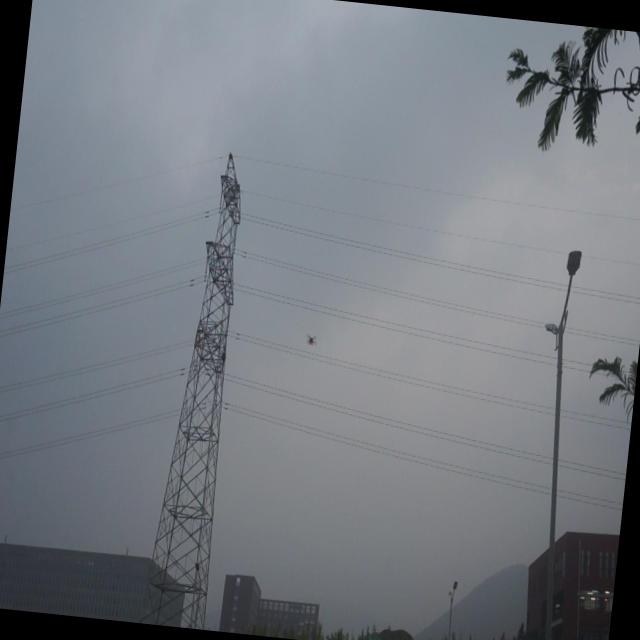drone: (304, 328, 318, 352)
